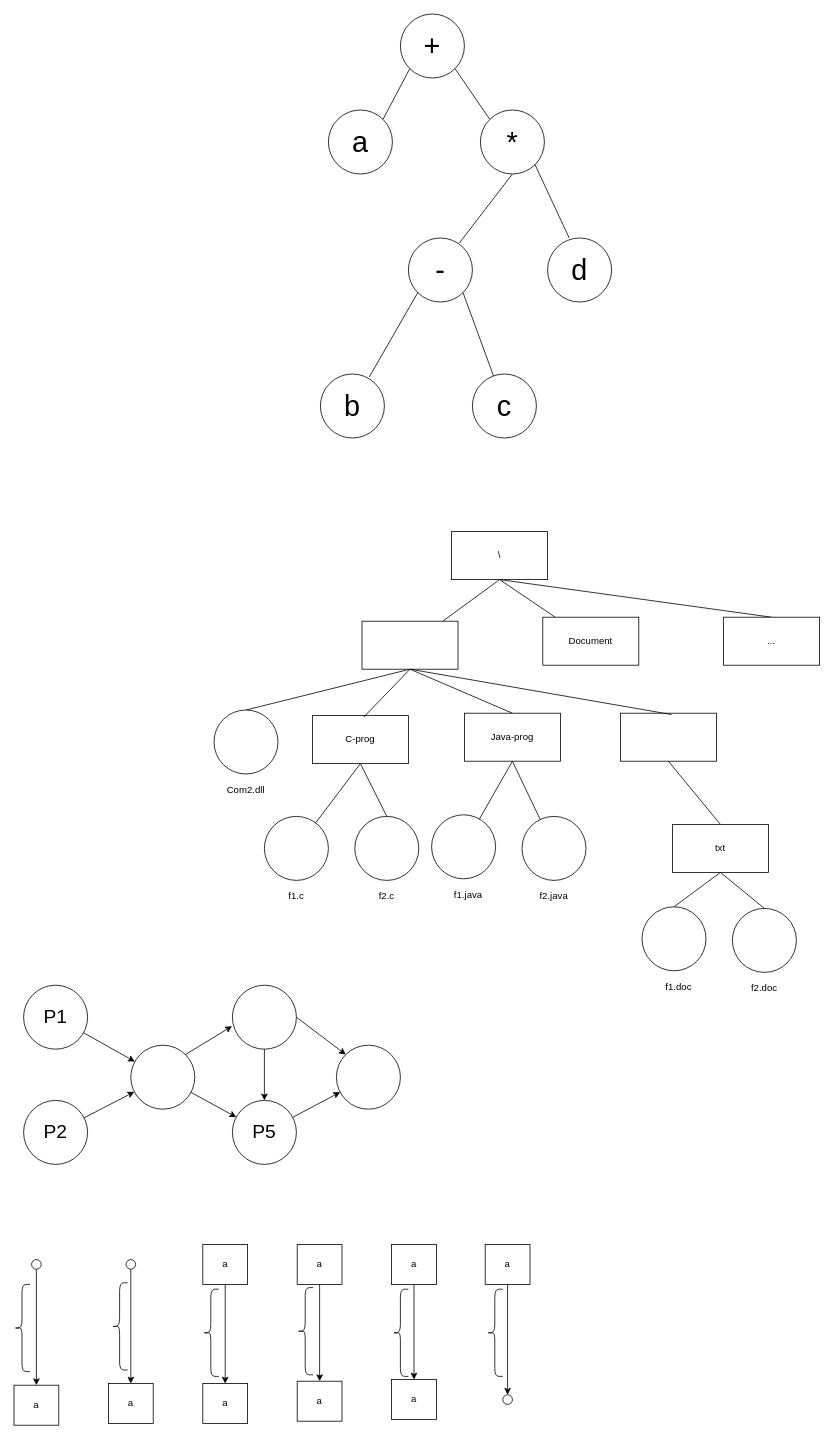
Some shapes in this 834 by 1439 pixel diagram are drawn without their labels. The centre of each missing label's shape, as x and y in pixels:
"P3" belongs at point (162, 1076).
"P4" belongs at point (264, 1016).
"P6" belongs at point (368, 1076).
"ProgramFile" belongs at point (409, 644).
"Zhang" belongs at point (668, 736).
